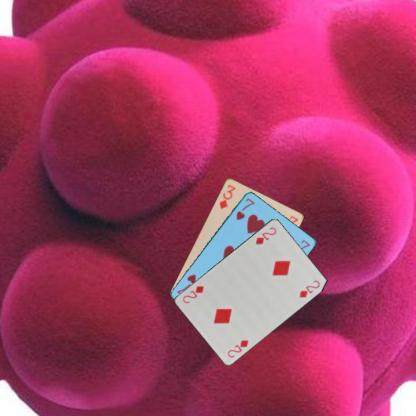2d: (252, 224, 278, 246), (224, 337, 249, 359)
3d: (217, 182, 237, 210)
7h: (233, 196, 256, 222)
